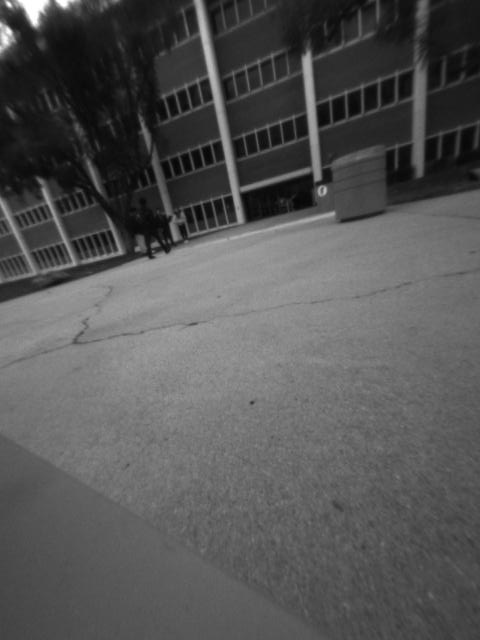trashcan: (329, 142, 391, 222), (310, 173, 337, 213)
